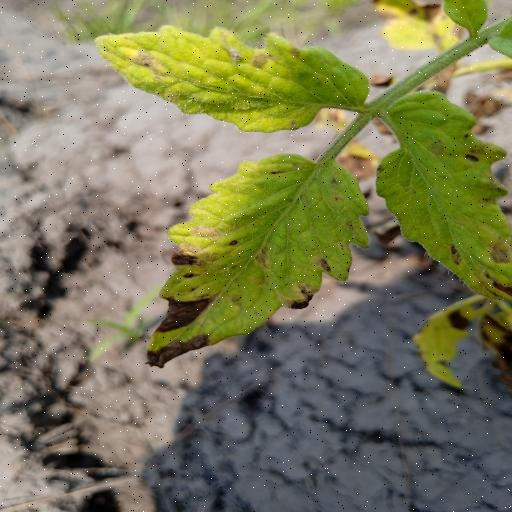Tomato_Brown_Spots: (142, 151, 376, 371), (91, 25, 378, 136), (373, 89, 512, 302)
